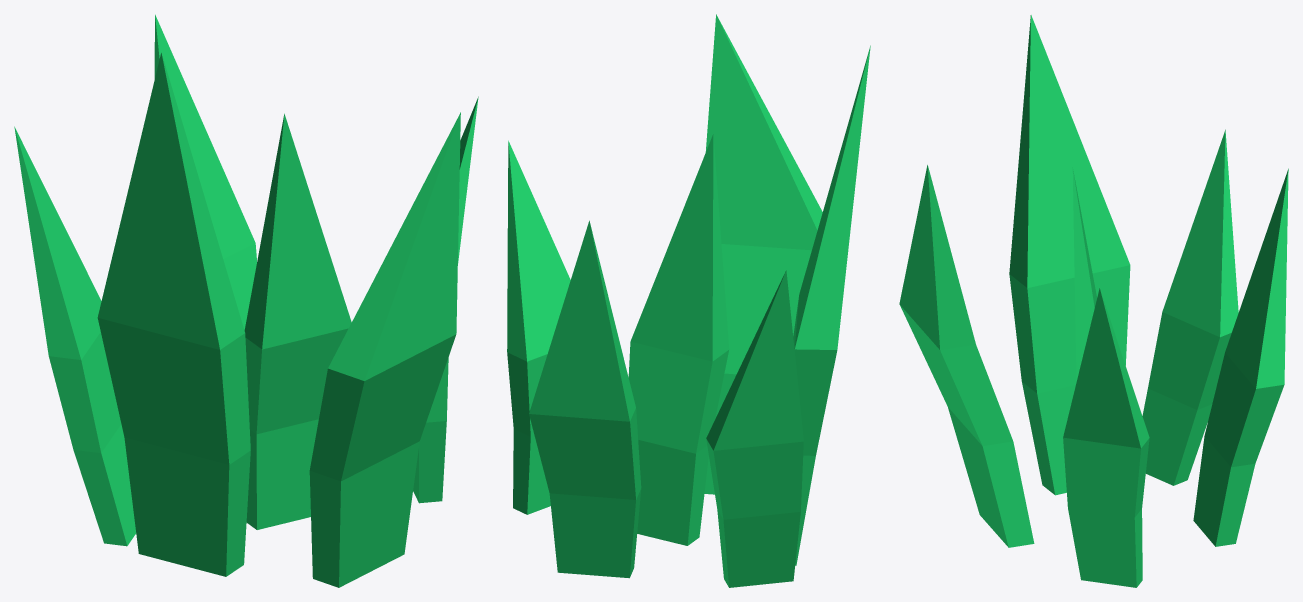
The model's file is Plant002_V1.fbx.
3 views of the same model, side by side, from view 1: azimuth 30°, elevation 25°; view 2: azimuth 150°, elevation 25°; view 3: azimuth 270°, elevation 25° (orthographic). The views are drawn at different scales.
Visible parts, largest first — view 1: Plant002; view 2: Plant002; view 3: Plant002.
Part boxes in pixels (box(x1,y1,x2,y2)): Plant002: box(14, 14, 478, 587); Plant002: box(507, 14, 870, 587); Plant002: box(899, 15, 1288, 587).
Bounding box in the file's own units: 0.4385 × 0.5945 × 0.4729.
